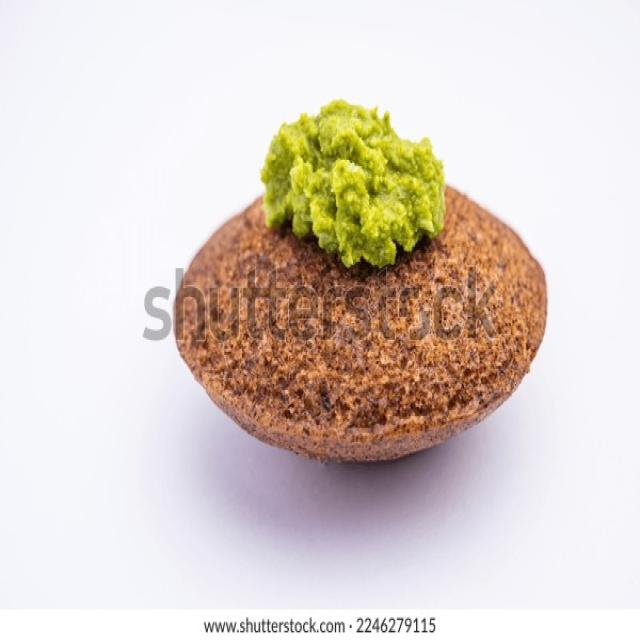IDLI: (166, 188, 554, 472)
